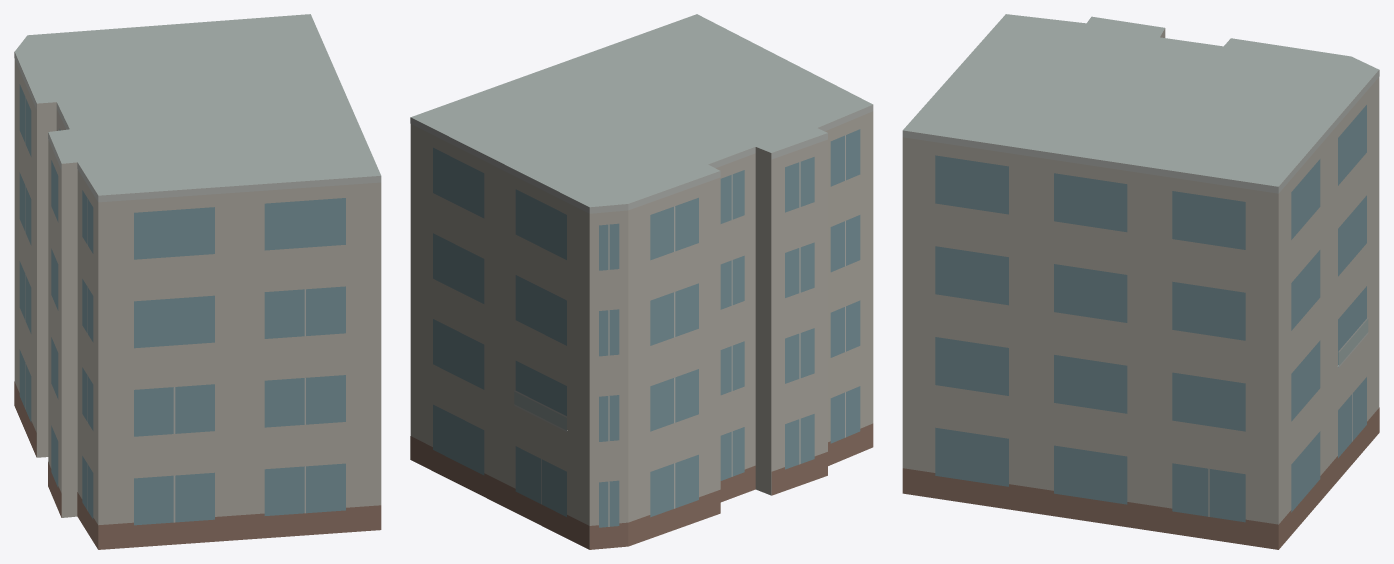
File: survey-upis-32527392.glb
3 renders of one model, left to right at view 1: azimuth 30°, elevation 25°; view 2: azimuth 150°, elevation 25°; view 3: azimuth 270°, elevation 25°, orthographic. The views are drawn at different scales.
Visible parts, largest first — view 1: survey-upis-32527392.tmp; view 2: survey-upis-32527392.tmp; view 3: survey-upis-32527392.tmp.
Part boxes in pixels (bbox=[...]): survey-upis-32527392.tmp: bbox=[14, 14, 381, 549]; survey-upis-32527392.tmp: bbox=[410, 14, 873, 549]; survey-upis-32527392.tmp: bbox=[902, 14, 1379, 549].
Bounding box in the file's own units: 13.07 × 12.8 × 15.24.
